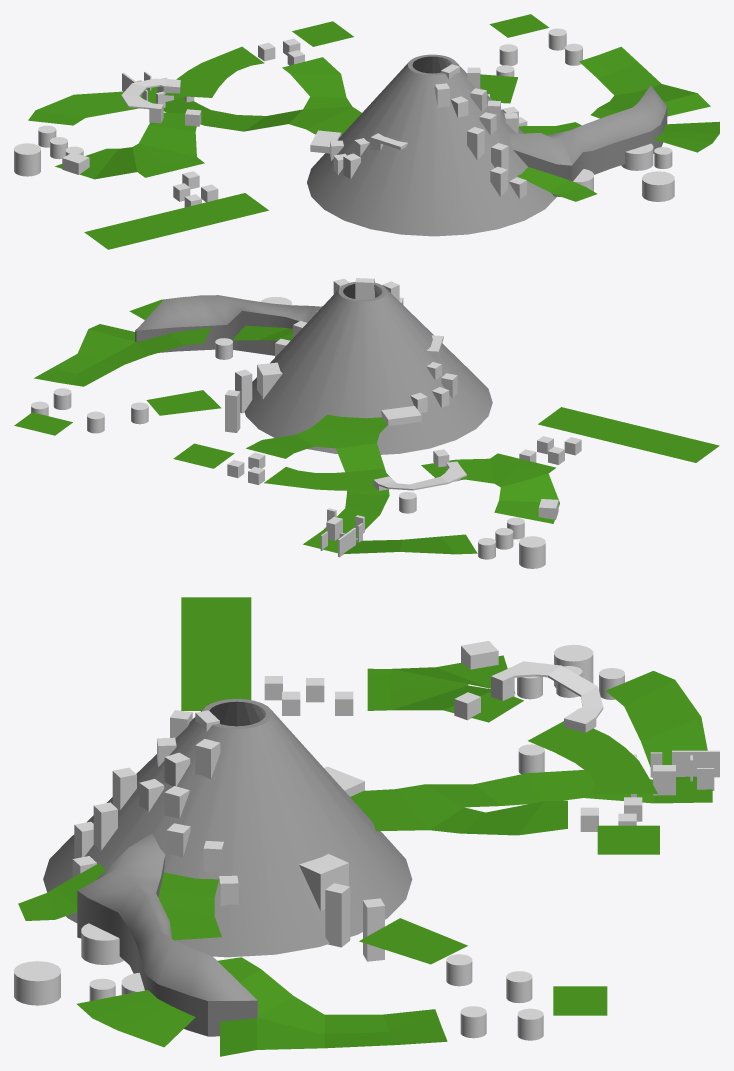
File: L1_S3_GrayBlock.FBX
3 renders of one model, top to bottom at view 1: azimuth 30°, elevation 25°; view 2: azimuth 150°, elevation 25°; view 3: azimuth 270°, elevation 25°, orthographic. The views are drawn at different scales.
Parts seen in each view (by area): view 1: Cone001, Plane014, Line002, Plane013, Plane019, Plane012, Plane015, Plane020, Box109, Plane021, Cylinder260, Plane016 (+14 smaller); view 2: Cone001, Plane014, Line002, Plane019, Plane013, Plane012, Plane015, Plane017, Box109, Plane016, Cylinder142, Plane022 (+5 smaller); view 3: Cone001, Plane014, Line002, Plane019, Plane012, Plane013, Plane015, Plane020, Plane022, Box109, Plane017, Plane021 (+18 smaller).
Boxes of the visible parts, x1,y1,x2,y2 form: Cone001: [307, 54, 556, 236]; Plane014: [28, 57, 361, 135]; Line002: [509, 85, 667, 196]; Plane013: [55, 112, 204, 179]; Plane019: [579, 46, 710, 118]; Plane012: [84, 193, 268, 249]; Plane015: [164, 46, 264, 97]; Plane020: [653, 121, 719, 152]; Box109: [121, 78, 180, 123]; Plane021: [517, 167, 596, 201]; Cylinder260: [642, 171, 674, 201]; Plane016: [292, 21, 353, 46]; Cone001: [244, 282, 492, 454]; Plane014: [246, 414, 477, 554]; Line002: [135, 295, 322, 355]; Plane019: [34, 324, 210, 386]; Plane013: [421, 453, 559, 523]; Plane012: [538, 407, 719, 462]; Plane015: [264, 467, 391, 490]; Plane017: [146, 390, 221, 415]; Box109: [373, 461, 466, 490]; Plane016: [173, 443, 234, 468]; Cylinder142: [519, 536, 545, 568]; Plane022: [232, 325, 292, 340]; Cone001: [43, 699, 412, 957]; Plane014: [350, 671, 712, 835]; Line002: [77, 833, 257, 1036]; Plane019: [217, 957, 447, 1056]; Plane012: [181, 597, 251, 710]; Plane013: [367, 655, 523, 722]; Plane015: [528, 721, 657, 793]; Plane020: [77, 990, 195, 1047]; Plane022: [158, 872, 221, 940]; Box109: [491, 661, 603, 732]; Plane017: [359, 918, 467, 964]; Plane021: [18, 863, 105, 920].
Bounding box in the file's own units: 19513 × 3887 × 13377.
